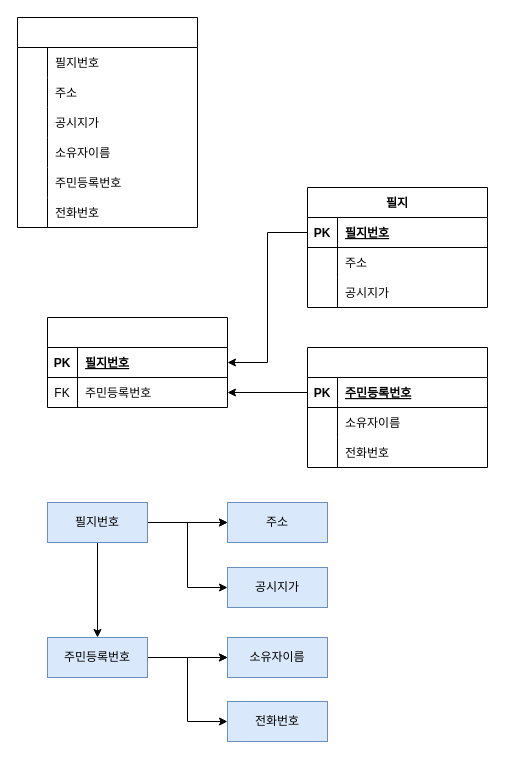
This 505x759 diagram has some shape labels left out. Here are the shapes that lost their labels. From the top down, the box of each, then its label:
(16, 16, 198, 228): 부동산
(46, 316, 228, 408): 부동산 소유자
(306, 346, 488, 468): 소유자 정보
